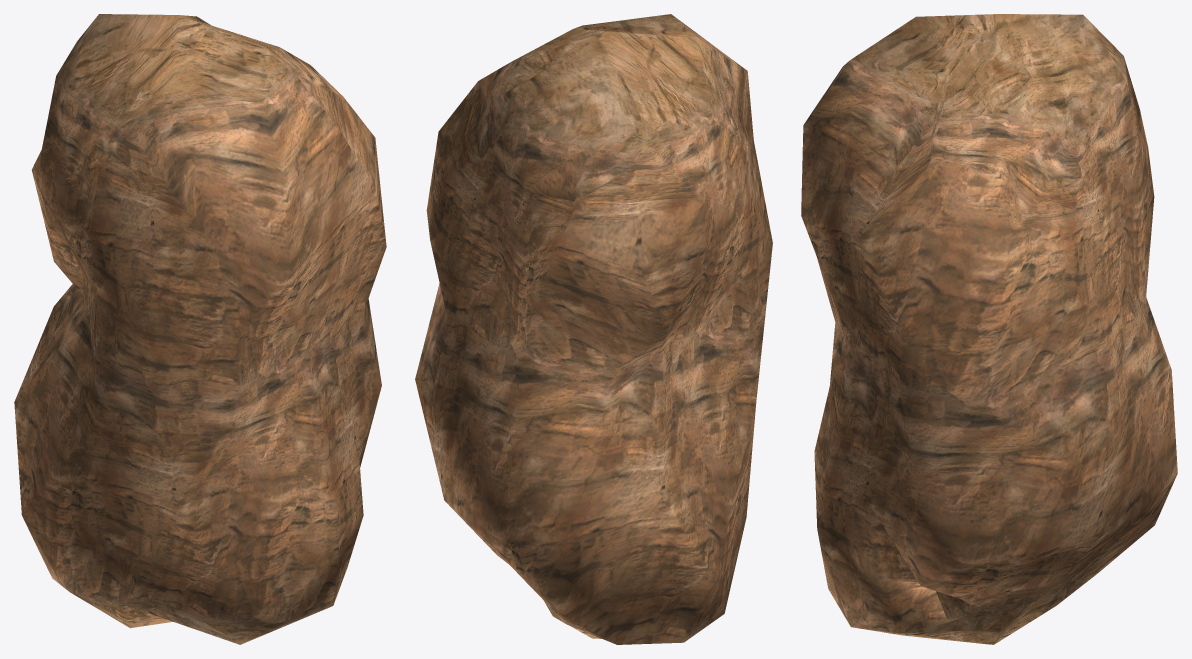
File: rock_tatt_bensmesa_boulder_a3_l1.fbx
3 views of the same model, side by side, from view 1: azimuth 30°, elevation 25°; view 2: azimuth 150°, elevation 25°; view 3: azimuth 270°, elevation 25° (orthographic). The views are drawn at different scales.
Visible parts, largest first — view 1: mesh_node; view 2: mesh_node; view 3: mesh_node.
Boxes of the visible parts, <box> form: mesh_node: <box>14,14,386,644</box>; mesh_node: <box>415,14,772,644</box>; mesh_node: <box>801,14,1177,644</box>.
Size of the model in its own units: 2.32 by 4.32 by 2.38.
